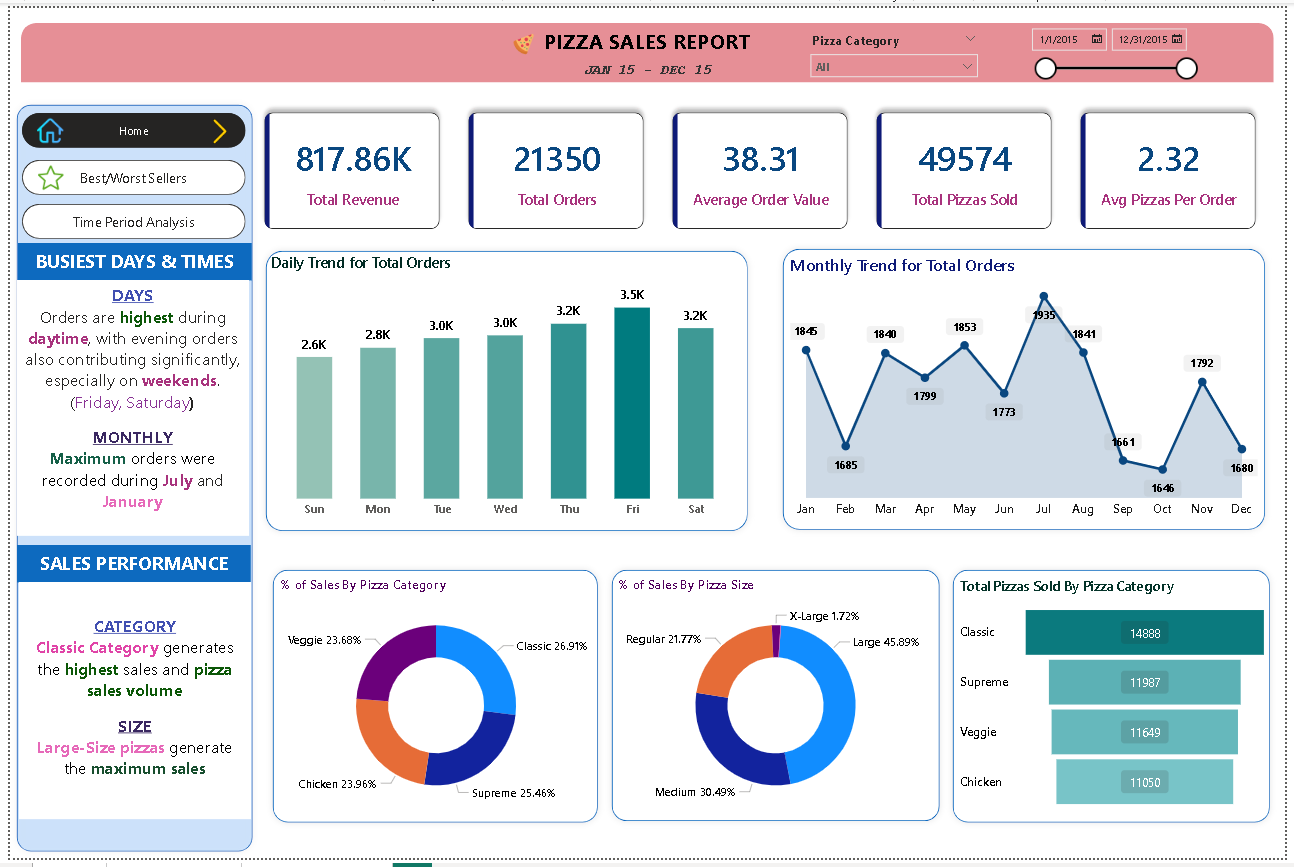

Layout of this report page (visuals, bound fields, positions):
{"tool":"powerbi","page":{"name":"Home","canvas":[1500,1000],"ordinal":0},"visuals":[{"type":"cardVisual","fields":{"Data":["Pizza_Sales.Total Revenue","Pizza_Sales.Total Orders","Pizza_Sales.Average Order Value","Pizza_Sales.Total Pizzas Sold","Pizza_Sales.Average Pizzas Per Order"]},"box":[282.1,105.4,1203.6,171.4],"z":0},{"type":"shape","box":[12.5,17.5,1473.8,70],"z":1000},{"type":"textbox","box":[605,17.5,290,56.2],"z":2000},{"type":"textbox","box":[668.3,58.3,163.3,30],"z":3000},{"type":"shape","box":[292.9,277.1,583,345.7],"z":4000},{"type":"clusteredColumnChart","title":"Daily Trend for Total Orders","fields":{"Category":["Pizza_Sales.Day_of_the_order"],"Y":["Pizza_Sales.Total Orders"]},"box":[302.5,288.8,562.5,320],"z":5000},{"type":"shape","box":[901.7,275,583.3,346.7],"z":6000},{"type":"areaChart","title":"Monthly Trend for Total Orders","fields":{"Category":["Pizza_Sales.Order_month"],"Y":["Pizza_Sales.Total Orders"]},"box":[913.3,288.9,560,320],"z":7000},{"type":"shape","box":[301.7,653.3,398.3,313.3],"z":8000},{"type":"donutChart","title":"% of Sales By Pizza Category","fields":{"Category":["Pizza_Sales.pizza_category"],"Y":["Pizza_Sales.Total Revenue"]},"box":[313.3,666.7,376.7,286.7],"z":9000},{"type":"shape","box":[700,653.3,401.7,311.7],"z":10000},{"type":"shape","box":[1101.7,653.3,389,313.3],"z":11000},{"type":"donutChart","title":"% of Sales By Pizza Size","fields":{"Y":["Pizza_Sales.Total Revenue"],"Category":["Pizza_Sales.pizza_size"]},"box":[710,666.7,380,286.7],"z":12000},{"type":"shape","box":[0,105.6,293.3,894.4],"z":13000},{"type":"funnel","title":"Total Pizzas Sold By Pizza Category","fields":{"Category":["Pizza_Sales.pizza_category"],"Y":["Sum(Pizza_Sales.quantity)"]},"box":[1113.3,668.9,372.2,284.4],"z":14000},{"type":"textbox","box":[9,277,275,44],"z":15000},{"type":"textbox","box":[8.8,320,272.5,301.2],"z":16000},{"type":"textbox","box":[8.8,631.2,275,43.8],"z":17000},{"type":"textbox","box":[10,675,272.5,278.8],"z":18000},{"type":"slicer","fields":{"Values":["Pizza_Sales.pizza_category"]},"box":[932.2,22.2,216.7,60],"z":19000},{"type":"slicer","fields":{"Values":["Pizza_Sales.order_date"]},"box":[1188.9,14.4,215.6,74.4],"z":20000},{"type":"pageNavigator","box":[13.8,124,263.8,41.2],"z":21000},{"type":"pageNavigator","box":[13.8,179,263.8,41.2],"z":22000},{"type":"pageNavigator","box":[13.8,230,263.8,41.2],"z":23000},{"type":"image","box":[32.4,128.8,30.6,31.8],"z":24000},{"type":"image","box":[230.9,130,32.7,29.1],"z":25000},{"type":"image","box":[32.5,184,30,31],"z":26000},{"type":"image","box":[592.3,26.9,25.4,31.5],"z":27000}]}

Visuals, with their boxes in screenshot pixels (x1, y1, x2, y2), scaled from the page's 1500x1000 canvas onto the 1294x867 screenshot:
cardVisual - Pizza_Sales.Total Revenue x Pizza_Sales.Total Orders: <box>243,91,1282,240</box>
shape: <box>11,15,1282,76</box>
textbox: <box>522,15,772,64</box>
textbox: <box>577,51,717,77</box>
shape: <box>253,240,756,540</box>
"Daily Trend for Total Orders" clusteredColumnChart: <box>261,250,746,528</box>
shape: <box>778,238,1281,539</box>
"Monthly Trend for Total Orders" areaChart: <box>788,250,1271,528</box>
shape: <box>260,566,604,838</box>
"% of Sales By Pizza Category" donutChart: <box>270,578,595,827</box>
shape: <box>604,566,950,837</box>
shape: <box>950,566,1286,838</box>
"% of Sales By Pizza Size" donutChart: <box>612,578,940,827</box>
shape: <box>0,92,253,866</box>
"Total Pizzas Sold By Pizza Category" funnel: <box>960,580,1281,827</box>
textbox: <box>8,240,245,278</box>
textbox: <box>8,277,243,539</box>
textbox: <box>8,547,245,585</box>
textbox: <box>9,585,244,827</box>
slicer - Pizza_Sales.pizza_category: <box>804,19,991,71</box>
slicer - Pizza_Sales.order_date: <box>1026,12,1212,77</box>
pageNavigator: <box>12,108,239,143</box>
pageNavigator: <box>12,155,239,191</box>
pageNavigator: <box>12,199,239,235</box>
image: <box>28,112,54,139</box>
image: <box>199,113,227,138</box>
image: <box>28,160,54,186</box>
image: <box>511,23,533,51</box>
